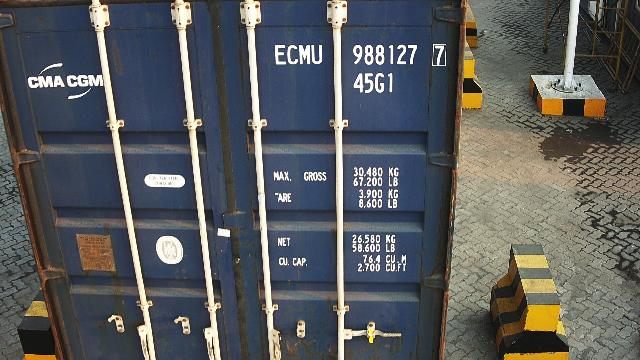1: (388, 43, 394, 65)
2: (397, 43, 407, 64)
7: (434, 44, 446, 66), (408, 43, 418, 64)
8: (374, 44, 386, 66), (364, 44, 374, 66)
9: (352, 43, 363, 64)
C: (288, 44, 298, 66)
E: (274, 44, 286, 66)
M: (298, 43, 310, 64)
U: (311, 43, 323, 64)
